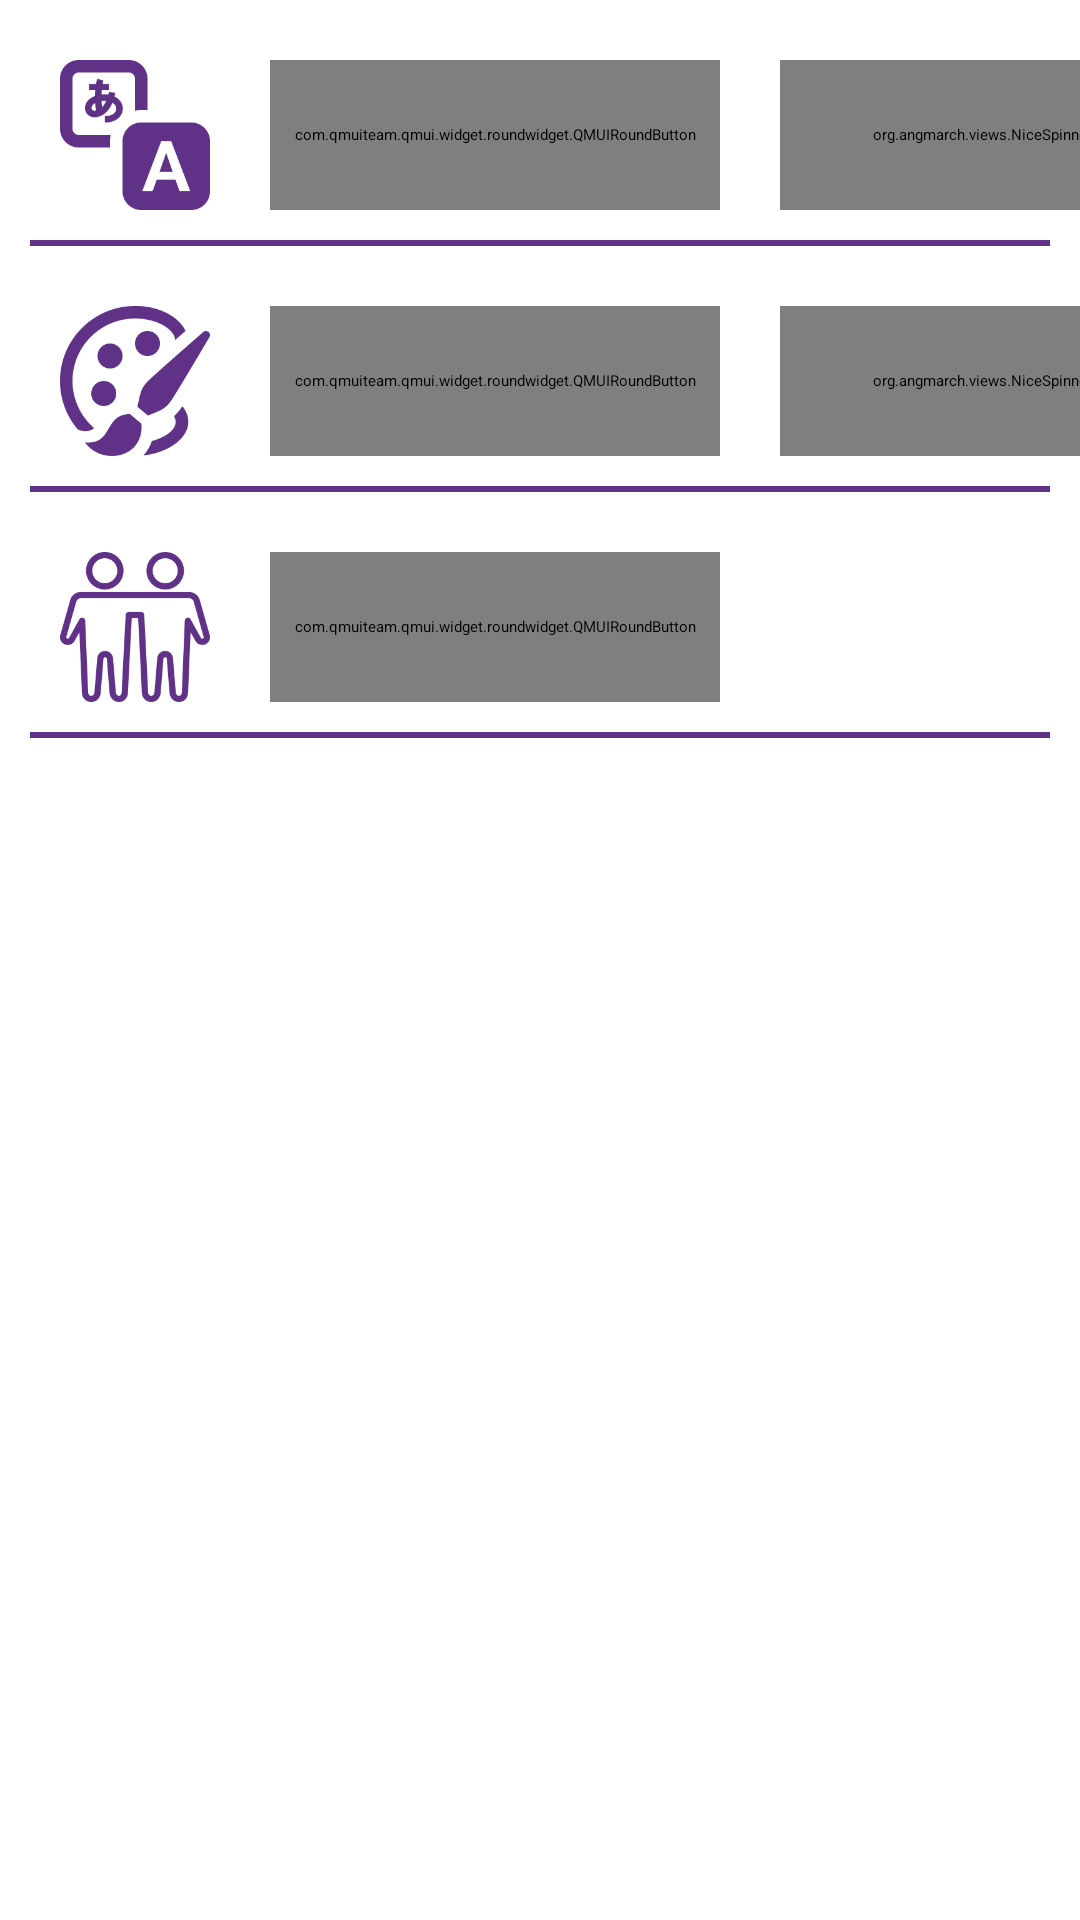

Screen size 1080×1920. Icon name, then its center in pixels as point (x, y):
about us: point (135, 627)
language: point (135, 135)
